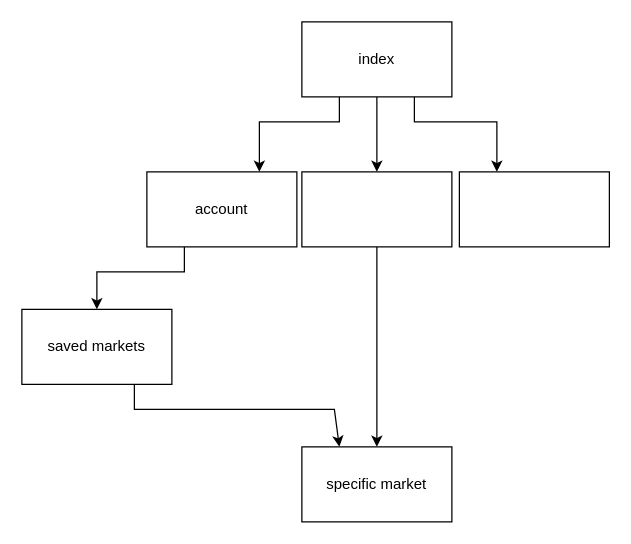
The diagram is 631 pixels wide and 544 high, and some of its shapes have lost their labels. The shapes that lost their labels are listed below. From the top down, each one's centre as x and y in pixels, then its label:
At (376,209): "markets".
At (533,209): "create new acc".
